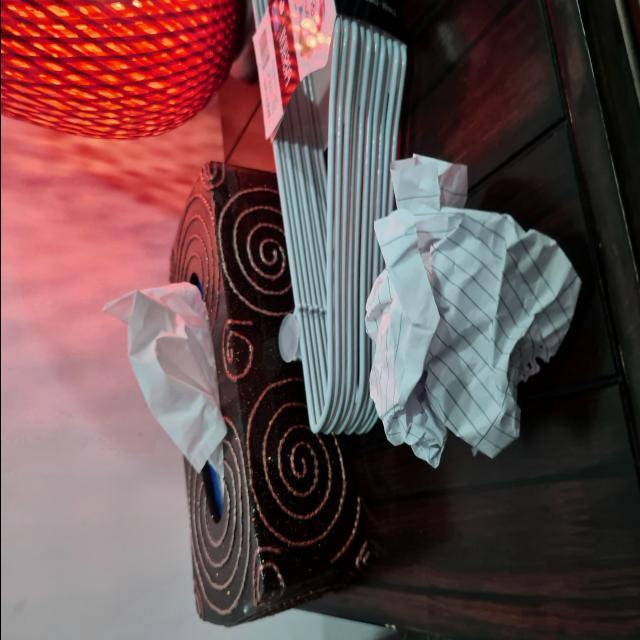Paper: (365, 148, 588, 473)
